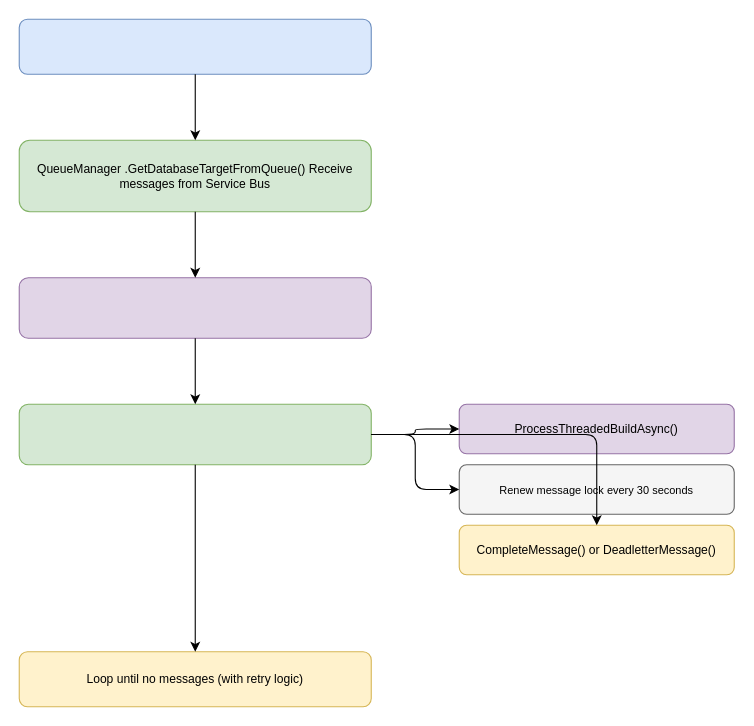
Some shapes in this 754 by 726 pixel diagram are drawn without their labels. Here are the shapes that lost their labels. From the top down, the centre of each, then its label:
At (x=194, y=46): "ExecuteFromQueueAsync()".
At (x=194, y=307): "For each message (parallel): Create ThreadedRunner".
At (x=194, y=434): "ProcessThreadedBuild WithQueueAsync()".
